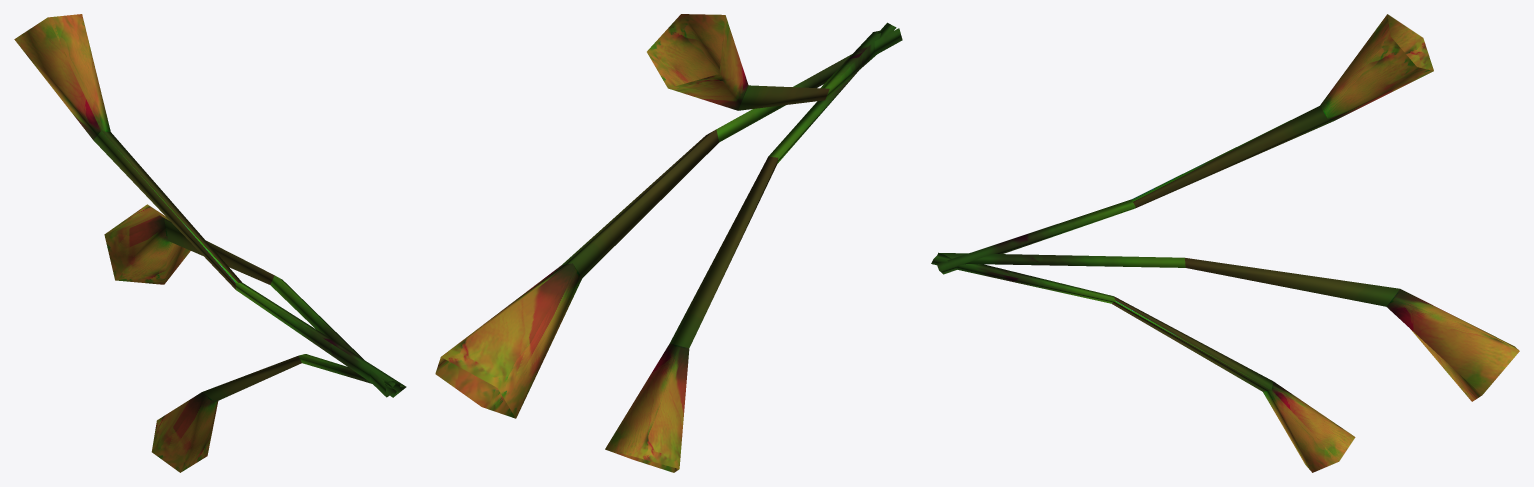
File: FlowersR_01_vcta.fbx
3 views of the same model, side by side, from view 1: azimuth 30°, elevation 25°; view 2: azimuth 150°, elevation 25°; view 3: azimuth 270°, elevation 25° (orthographic). The views are drawn at different scales.
Visible parts, largest first — view 1: FlowersR_01; view 2: FlowersR_01; view 3: FlowersR_01.
Boxes of the visible parts, bbox=[...] form: FlowersR_01: bbox=[14, 14, 406, 472]; FlowersR_01: bbox=[435, 14, 902, 472]; FlowersR_01: bbox=[931, 14, 1519, 472].
Size of the model in its own units: 0.4467 by 0.9025 by 1.17.
